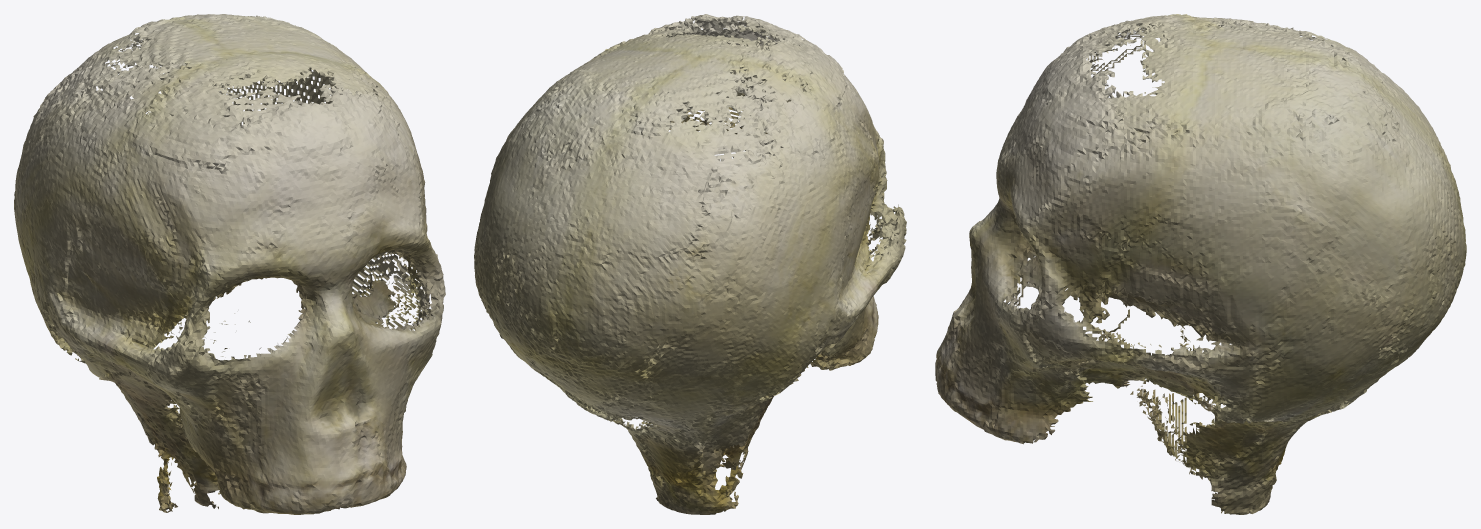
3 renders of one model, left to right at view 1: azimuth 30°, elevation 25°; view 2: azimuth 150°, elevation 25°; view 3: azimuth 270°, elevation 25°, orthographic. The views are drawn at different scales.
Parts seen in each view (by area): view 1: geometry_0; view 2: geometry_0; view 3: geometry_0.
Part boxes in pixels (x1,y1,x2,y2): geometry_0: [14, 14, 445, 514]; geometry_0: [474, 14, 906, 514]; geometry_0: [935, 14, 1466, 514].
Bounding box in the file's own units: 1.28 × 1.64 × 1.72.
